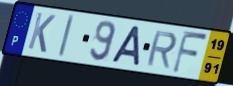9: (89, 20, 117, 63)
A: (109, 24, 142, 68)
F: (170, 29, 210, 76)
I: (56, 14, 76, 59)
K: (26, 11, 57, 55)
R: (144, 29, 179, 70)
